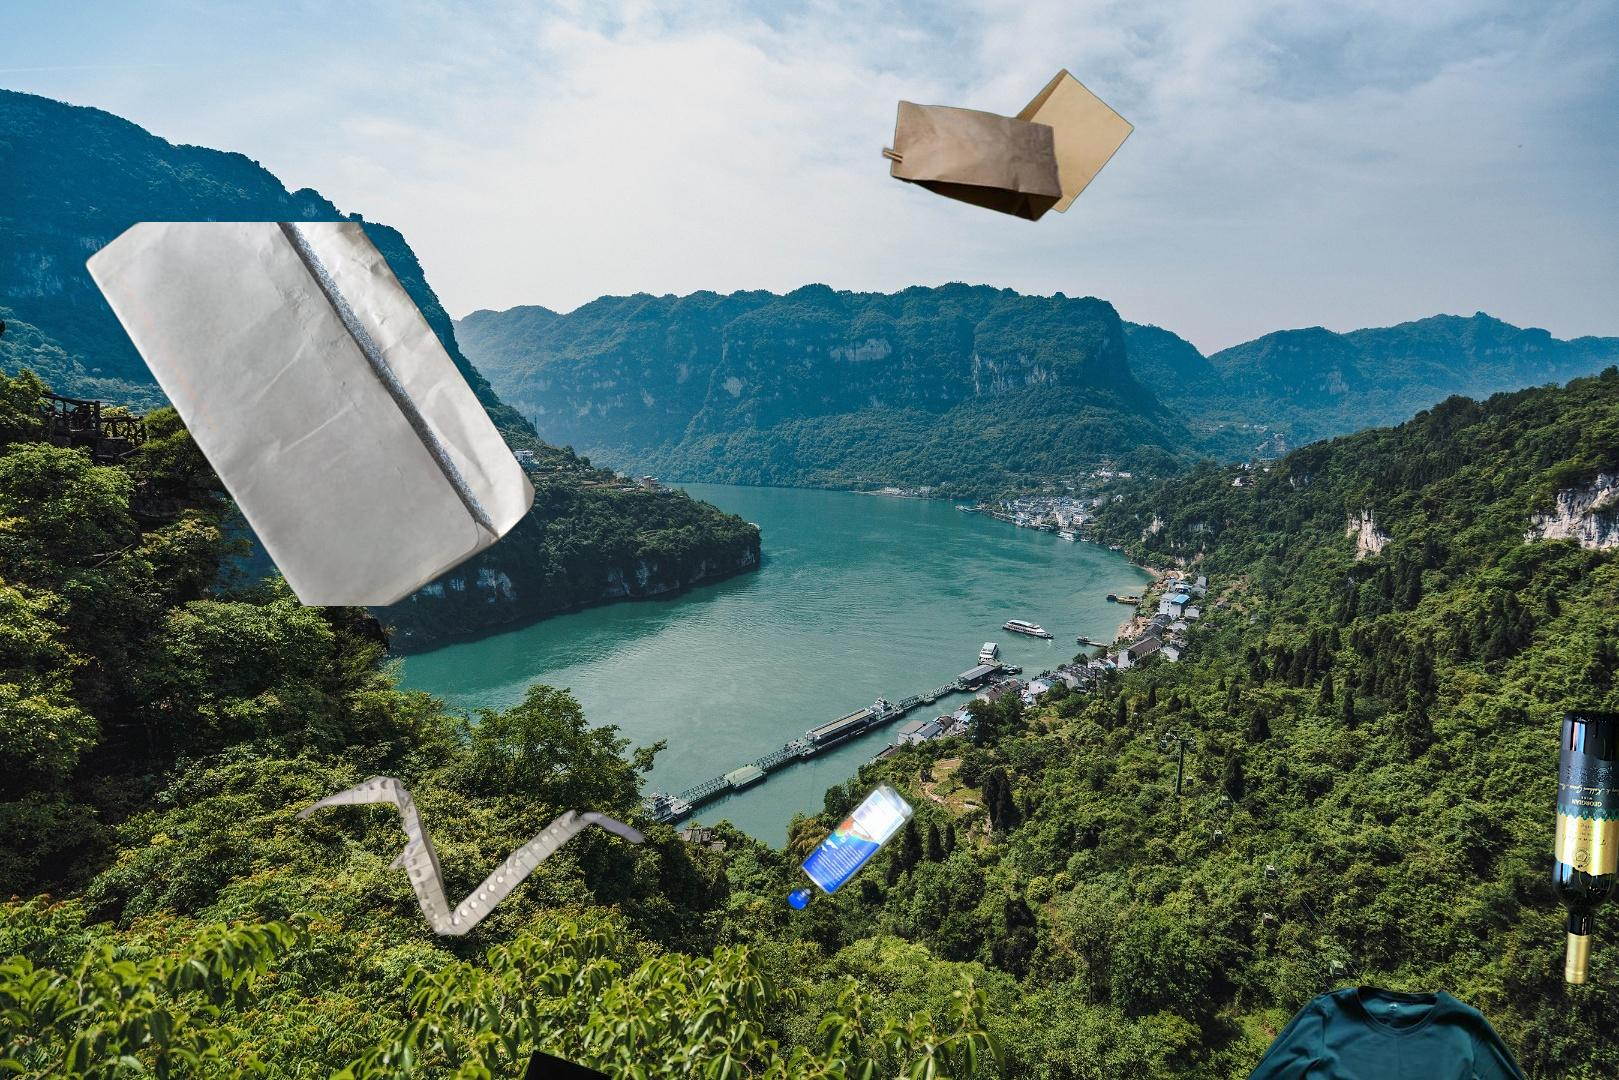clothes: (1178, 980, 1578, 1080)
glass: (1548, 704, 1619, 991)
paper: (81, 222, 541, 606), (291, 771, 650, 940)
paper-bag: (876, 67, 1136, 224), (512, 1047, 637, 1080)
plastic-bottles: (784, 775, 921, 916)
